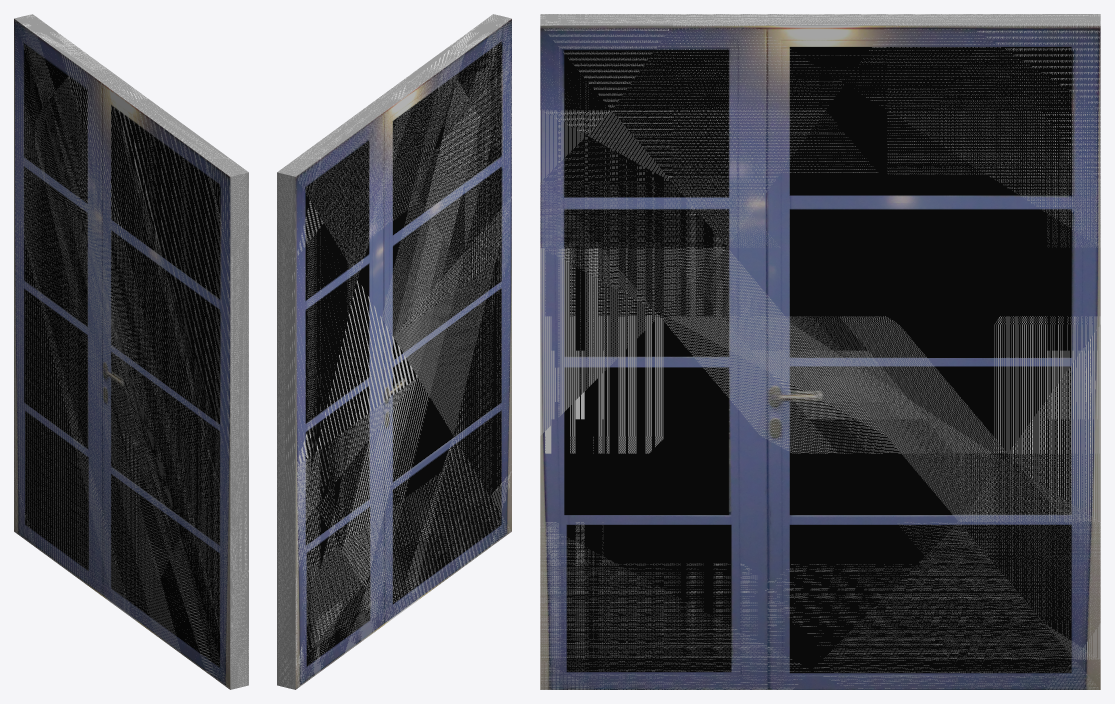
File: blaueTuere02.dae
3 views of the same model, side by side, from view 1: azimuth 30°, elevation 25°; view 2: azimuth 150°, elevation 25°; view 3: azimuth 270°, elevation 25° (orthographic). The views are drawn at different scales.
Visible parts, largest first — view 1: SketchUp (×2); view 2: SketchUp (×2); view 3: SketchUp (×2).
Boxes of the visible parts, <box> form: SketchUp (×2): <box>14,14,248,689</box>; SketchUp (×2): <box>277,14,511,689</box>; SketchUp (×2): <box>540,14,1100,689</box>.
Bounding box in the file's own units: 0.1003 × 2.02 × 2.64.
3 materials, 1 textured.
